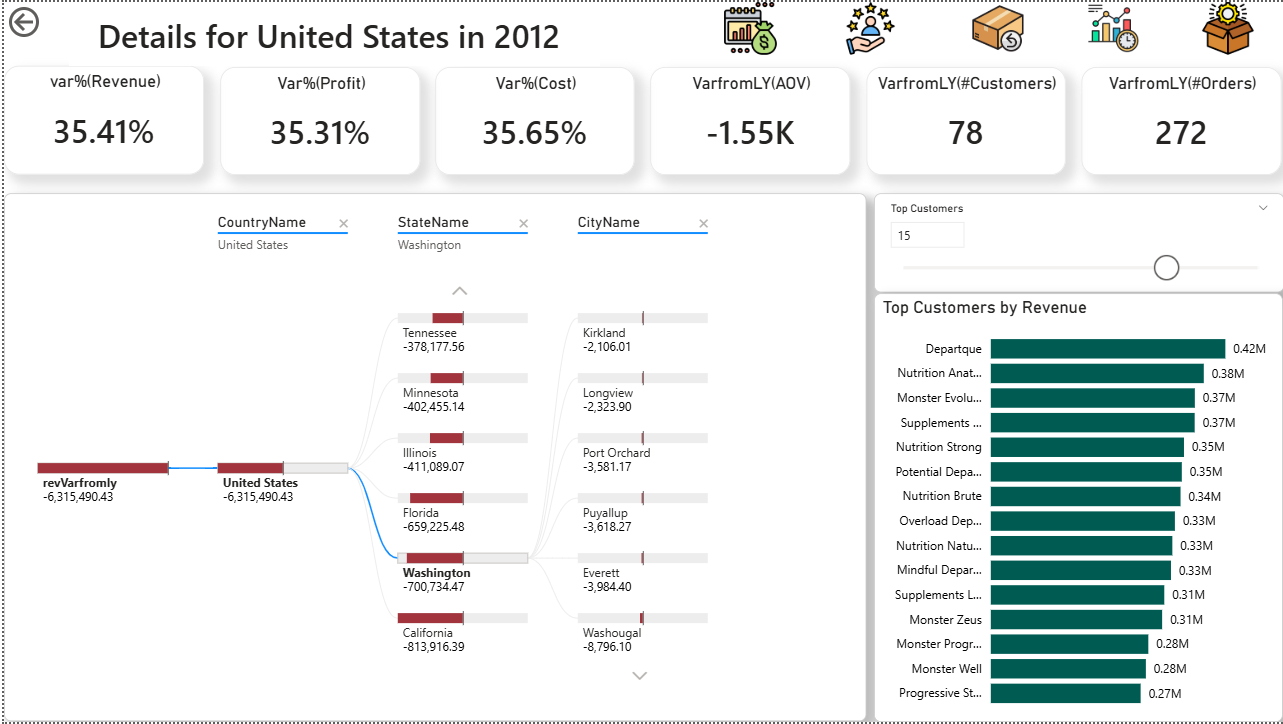

What the dashboard file says about the page in this screenshot:
{"tool":"powerbi","page":{"name":"Location Analysis","canvas":[1280,720],"ordinal":5},"visuals":[{"type":"cardVisual","title":"var%(Revenue)","fields":{"Data":["#Measures.var%(rev)"]},"box":[0,64.2,200.4,108.9],"z":0},{"type":"cardVisual","title":"Var%(Profit)","fields":{"Data":["#Measures.var%(profit)"]},"box":[215.9,65.2,200.4,108],"z":1000},{"type":"cardVisual","title":"Var%(Cost)","fields":{"Data":["#Measures.var%(cost)"]},"box":[431.9,65.2,199.4,108],"z":2000},{"type":"cardVisual","title":"VarfromLY(AOV)","fields":{"Data":["#Measures.Varfromlyaov"]},"box":[646.8,65.2,200.4,108],"z":3000},{"type":"cardVisual","title":"VarfromLY(#Customers)","fields":{"Data":["#Measures.varfromly#customers"]},"box":[862.7,65.2,199.4,108],"z":4000},{"type":"cardVisual","title":"VarfromLY(#Orders)","fields":{"Data":["#Measures.varfromly#orders"]},"box":[1077.7,65.2,200.4,108],"z":5000},{"type":"decompositionTreeVisual","fields":{"Analyze":["#Measures.revVarfromly"],"ExplainBy":["Customers.CountryName","Customers.StateName","Customers.CityName"]},"box":[0,191.6,862.7,528.1],"z":6000},{"type":"actionButton","box":[0,0,64.5,40],"z":7000},{"type":"slicer","fields":{"Values":["Top Customers.Top Customers"]},"box":[869.9,191.5,410.5,99.3],"z":8000},{"type":"clusteredBarChart","title":"Top Customers by Revenue","fields":{"Category":["Customers.Customer"],"Y":["#Measures.Top Achiver(Revenue)"]},"box":[869.5,290.8,408.5,428.9],"z":9000},{"type":"cardVisual","fields":{"Data":["#Measures.Details title"]},"box":[64.7,0,531.1,63.8],"z":10000},{"type":"image","box":[1169.1,0,110.9,52.7],"z":11000},{"type":"image","box":[691.8,0,110.9,52.7],"z":12000},{"type":"image","box":[810.9,0,110.9,52.7],"z":13000},{"type":"image","box":[938.2,0,110.9,52.7],"z":14000},{"type":"image","box":[1049.1,0,120,52.7],"z":15000}]}

Visuals, with their boxes in screenshot pixels (x1, y1, x2, y2), scaled from the page's 1280x720 canvas onto the 1283x724 screenshot:
"var%(Revenue)" cardVisual: l=0, t=65, r=201, b=174
"Var%(Profit)" cardVisual: l=216, t=66, r=417, b=174
"Var%(Cost)" cardVisual: l=433, t=66, r=633, b=174
"VarfromLY(AOV)" cardVisual: l=648, t=66, r=849, b=174
"VarfromLY(#Customers)" cardVisual: l=865, t=66, r=1065, b=174
"VarfromLY(#Orders)" cardVisual: l=1080, t=66, r=1281, b=174
decompositionTreeVisual - #Measures.revVarfromly x Customers.CountryName: l=0, t=193, r=865, b=723
actionButton: l=0, t=0, r=65, b=40
slicer - Top Customers.Top Customers: l=872, t=193, r=1282, b=292
"Top Customers by Revenue" clusteredBarChart: l=872, t=292, r=1281, b=723
cardVisual - #Measures.Details title: l=65, t=0, r=597, b=64
image: l=1172, t=0, r=1282, b=53
image: l=693, t=0, r=805, b=53
image: l=813, t=0, r=924, b=53
image: l=940, t=0, r=1052, b=53
image: l=1052, t=0, r=1172, b=53
